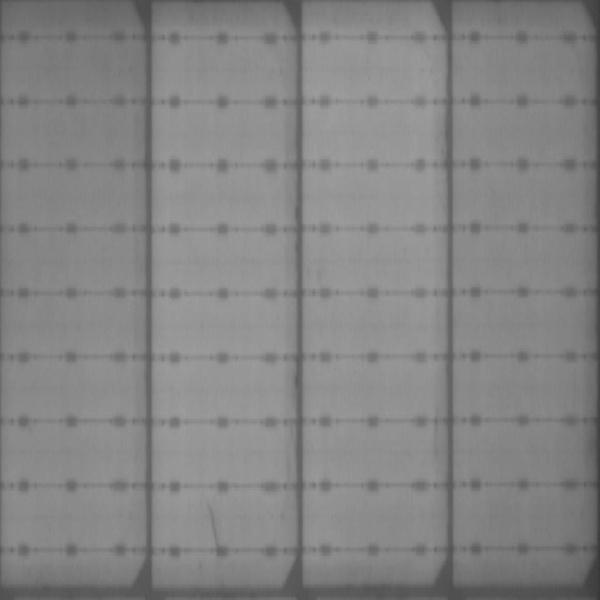scratch: (204, 497, 223, 546)
